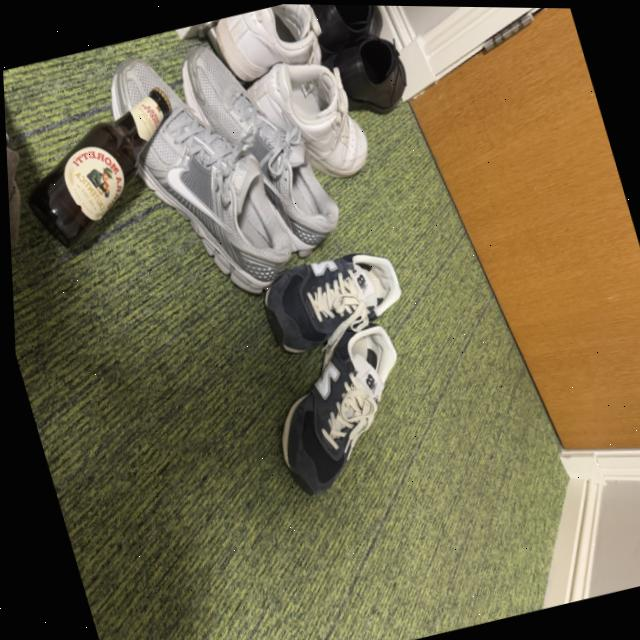beer: (3, 78, 207, 263)
